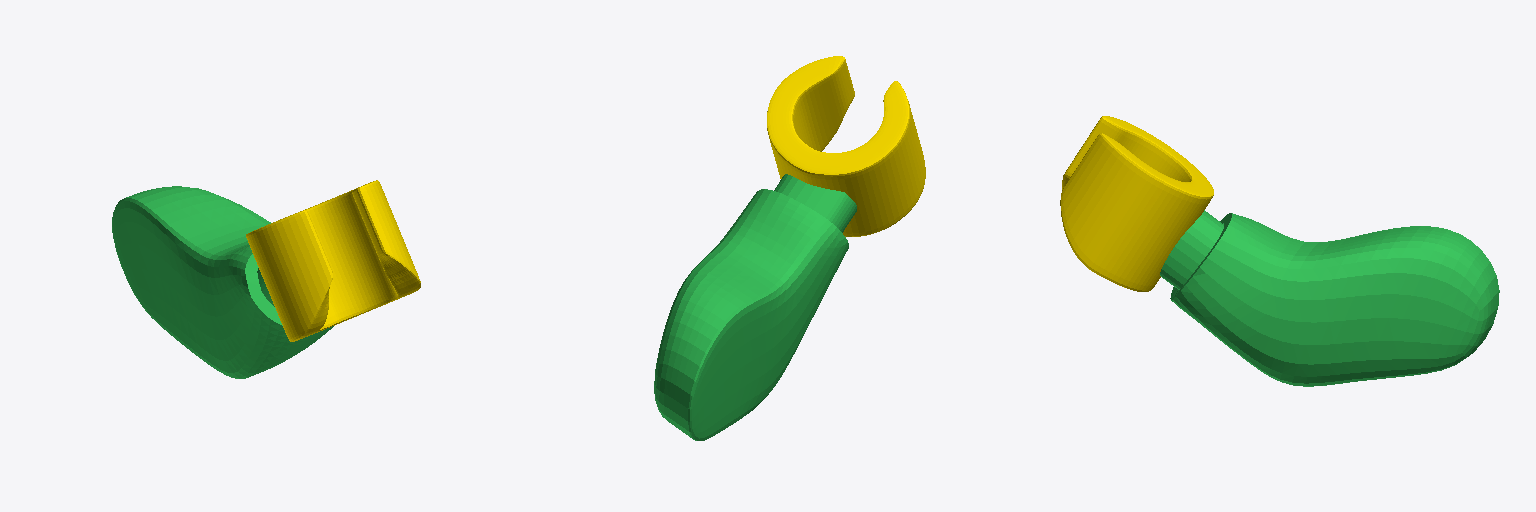
3 renders of one model, left to right at view 1: azimuth 30°, elevation 25°; view 2: azimuth 150°, elevation 25°; view 3: azimuth 270°, elevation 25°, orthographic.
Visible parts, largest first — view 1: leftArm:BrazoIzquierdo1; view 2: leftArm:BrazoIzquierdo1; view 3: leftArm:BrazoIzquierdo1.
Part boxes in pixels (x1,y1,x2,y2): leftArm:BrazoIzquierdo1: (112, 180, 420, 378); leftArm:BrazoIzquierdo1: (654, 56, 925, 440); leftArm:BrazoIzquierdo1: (1060, 116, 1499, 386).
Bounding box in the file's own units: 0.9074 × 1.64 × 2.5.
2 materials, 2 textured.